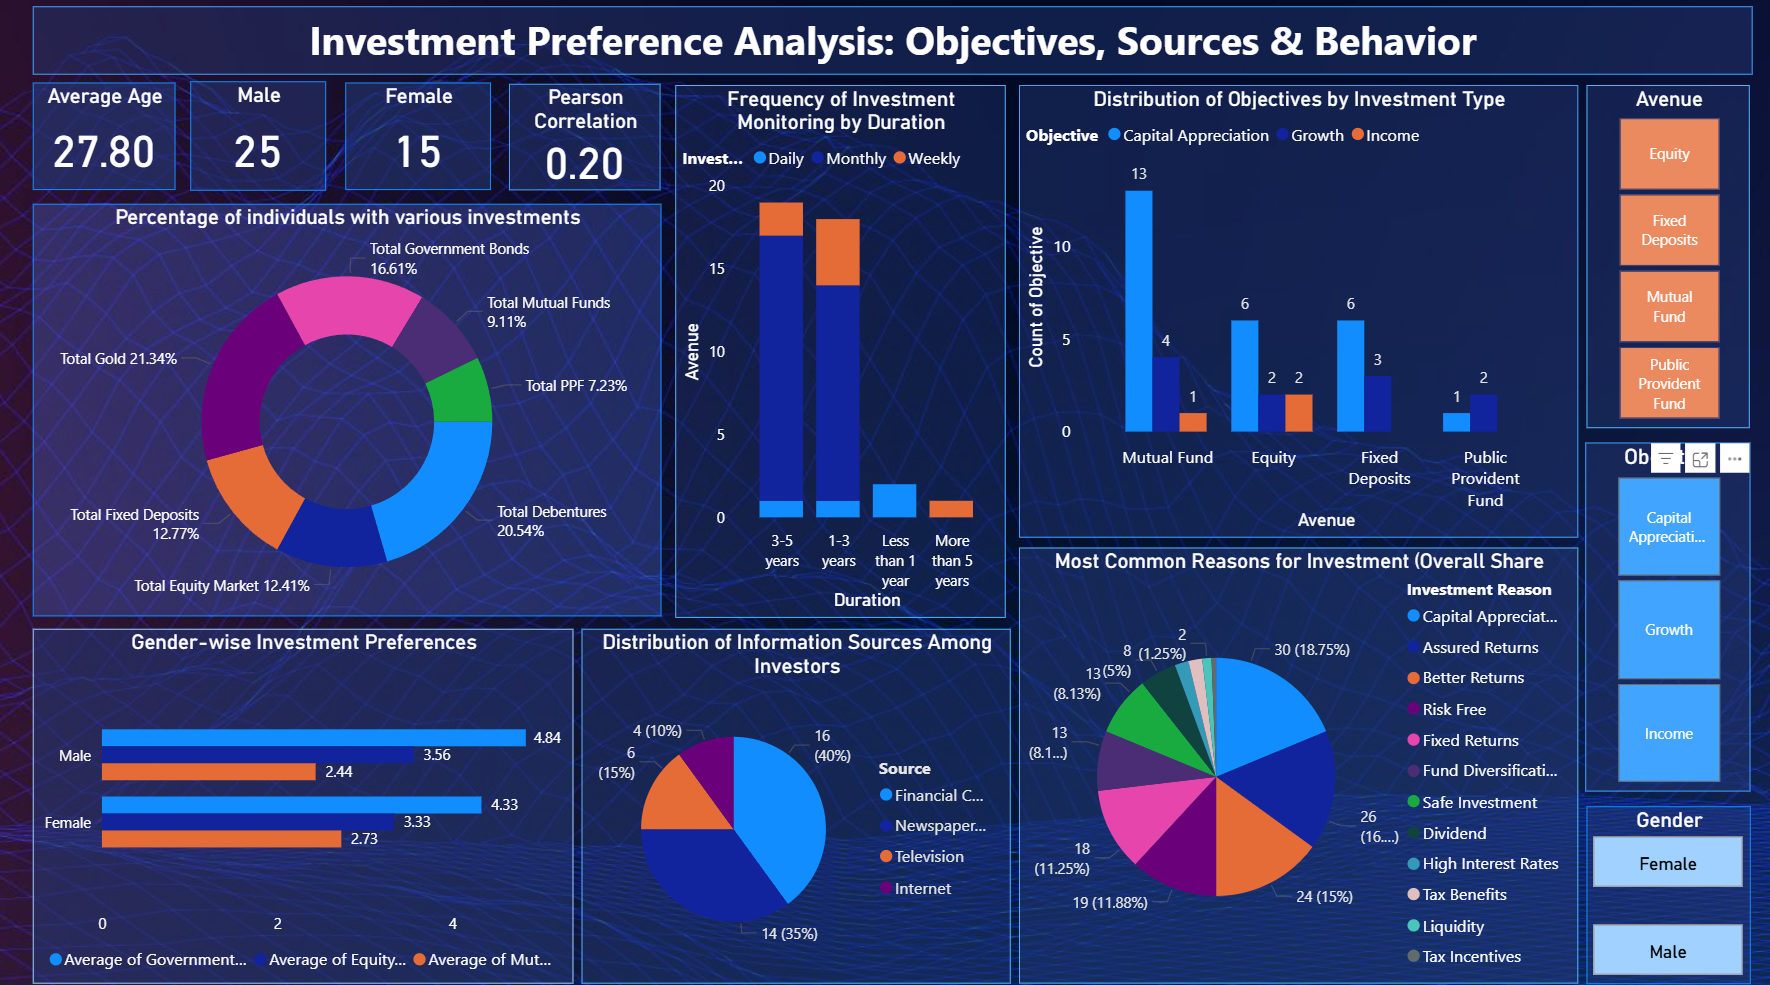

Layout of this report page (visuals, bound fields, positions):
{"tool":"powerbi","page":{"name":"Task 7","canvas":[1450,810],"ordinal":6},"visuals":[{"type":"textbox","box":[27.1,5.4,1407.5,55.6],"z":0},{"type":"card","title":"Average Age","fields":{"Values":["Data_set 2.Average Age"]},"box":[27.1,67.9,116.7,88.2],"z":1000},{"type":"card","title":"Male","fields":{"Values":["Data_set 2.Male"]},"box":[156.1,66.5,111.3,89.6],"z":2000},{"type":"card","title":"Female","fields":{"Values":["Data_set 2.Female"]},"box":[283.7,67.9,119.4,88.2],"z":3000},{"type":"advancedSlicerVisual","title":"Gender","fields":{"Values":["Data_set 2.gender"]},"box":[1298.9,659.6,134.4,145.2],"z":4000},{"type":"card","title":"Pearson Correlation","fields":{"Values":["Data_set 2.Pearson Correlation"]},"box":[416.9,68.8,124.3,86.9],"z":5000},{"type":"slicer","title":"Avenue","fields":{"Values":["Data_set 2.Avenue"]},"box":[1299.3,69.2,133.9,281.1],"z":6000},{"type":"slicer","title":"Obejctive","fields":{"Values":["Data_set 2.Objective"]},"box":[1298.1,362.4,135.1,285.9],"z":7000},{"type":"donutChart","title":"Percentage of individuals with various  investments","fields":{"Y":["Data_set 2.Total Debentures","Data_set 2.Total Equity Market","Data_set 2.Total Fixed Deposits","Data_set 2.Total Gold","Data_set 2.Total Government Bonds","Data_set 2.Total Mutual Funds","Data_set 2.Total PPF"]},"box":[27.1,166.9,514.4,338],"z":8000},{"type":"clusteredBarChart","title":"Gender-wise Investment Preferences","fields":{"Category":["Data_set 2.gender"],"Y":["Avg(Data_set 2.Government_Bonds)","Avg(Data_set 2.Equity_Market)","Avg(Data_set 2.Mutual_Funds)"]},"box":[27.1,514.4,442.5,290.5],"z":9000},{"type":"clusteredColumnChart","title":"Distribution of Objectives by Investment Type","fields":{"Category":["Data_set 2.Avenue"],"Y":["CountNonNull(Data_set 2.Objective)"],"Series":["Data_set 2.Objective"]},"box":[834.7,69.2,457.4,370.5],"z":10000},{"type":"pieChart","title":"Most Common Reasons for Investment (Overall Share","fields":{"Category":["Data_set 2 - Copy.Investment Reason"],"Y":["CountNonNull(Data_set 2 - Copy.Investment Reason Type)"]},"box":[834.7,447.9,457.4,357],"z":11000},{"type":"columnChart","title":"Frequency of Investment Monitoring by Duration","fields":{"Category":["Data_set 2.Duration"],"Series":["Data_set 2.Invest_Monitor"],"Y":["CountNonNull(Data_set 2.Avenue)"]},"box":[553.8,69.2,270.1,435.7],"z":12000},{"type":"pieChart","title":"Distribution of Information Sources Among Investors","fields":{"Category":["Data_set 2.Source"],"Y":["CountNonNull(Data_set 2.Source)"]},"box":[476.4,514.4,351.5,290.5],"z":13000}]}

Visuals, with their boxes in screenshot pixels (x1, y1, x2, y2), scaled from the page's 1450x810 canvas onto the 1770x985 screenshot:
textbox: 33/7/1751/74
"Average Age" card: 33/83/176/190
"Male" card: 191/81/326/190
"Female" card: 346/83/492/190
"Gender" advancedSlicerVisual: 1586/802/1750/979
"Pearson Correlation" card: 509/84/661/189
"Avenue" slicer: 1586/84/1749/426
"Obejctive" slicer: 1585/441/1749/788
"Percentage of individuals with various  investments" donutChart: 33/203/661/614
"Gender-wise Investment Preferences" clusteredBarChart: 33/626/573/979
"Distribution of Objectives by Investment Type" clusteredColumnChart: 1019/84/1577/535
"Most Common Reasons for Investment (Overall Share" pieChart: 1019/545/1577/979
"Frequency of Investment Monitoring by Duration" columnChart: 676/84/1006/614
"Distribution of Information Sources Among Investors" pieChart: 582/626/1011/979
